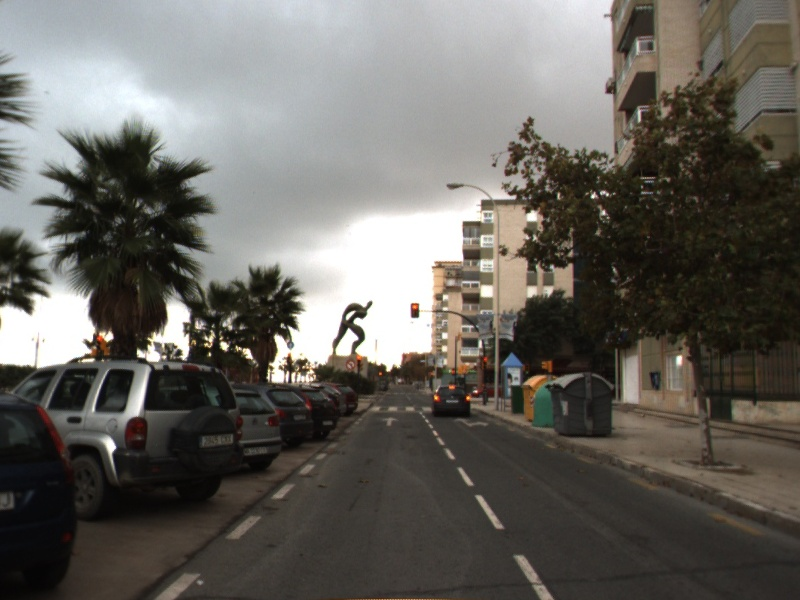STRAIGHT: (379, 415, 401, 428)
STRAIGHT_RIGHT: (451, 415, 492, 428)
